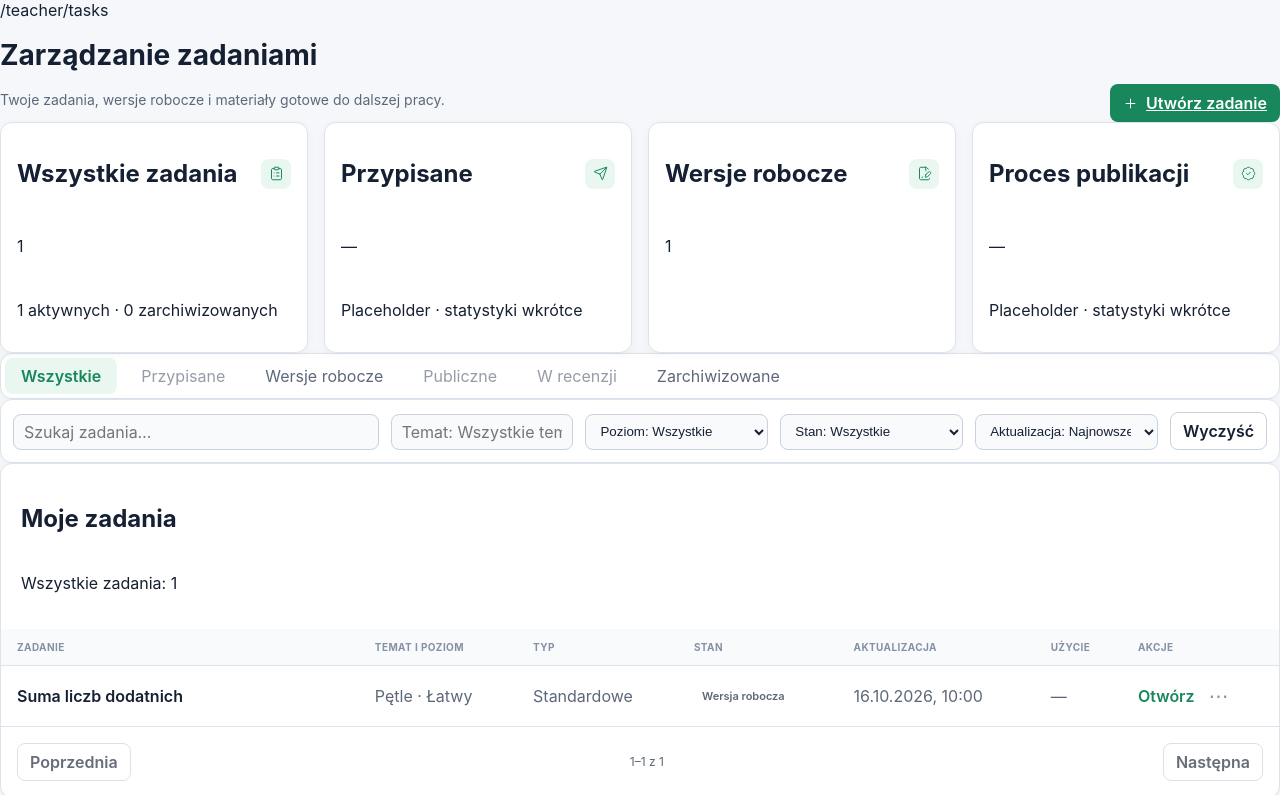
Test case: keeps the draft metric and tab consistent when a draft is archived
The width and height of the screenshot is (1280, 795).
Expected: the table is shown, [1,629,1279,726]
Expected: the 2nd text "1" is shown, [665,236,672,256]
Click the button "Wersje robocze": (324, 376) [249,358,399,394]
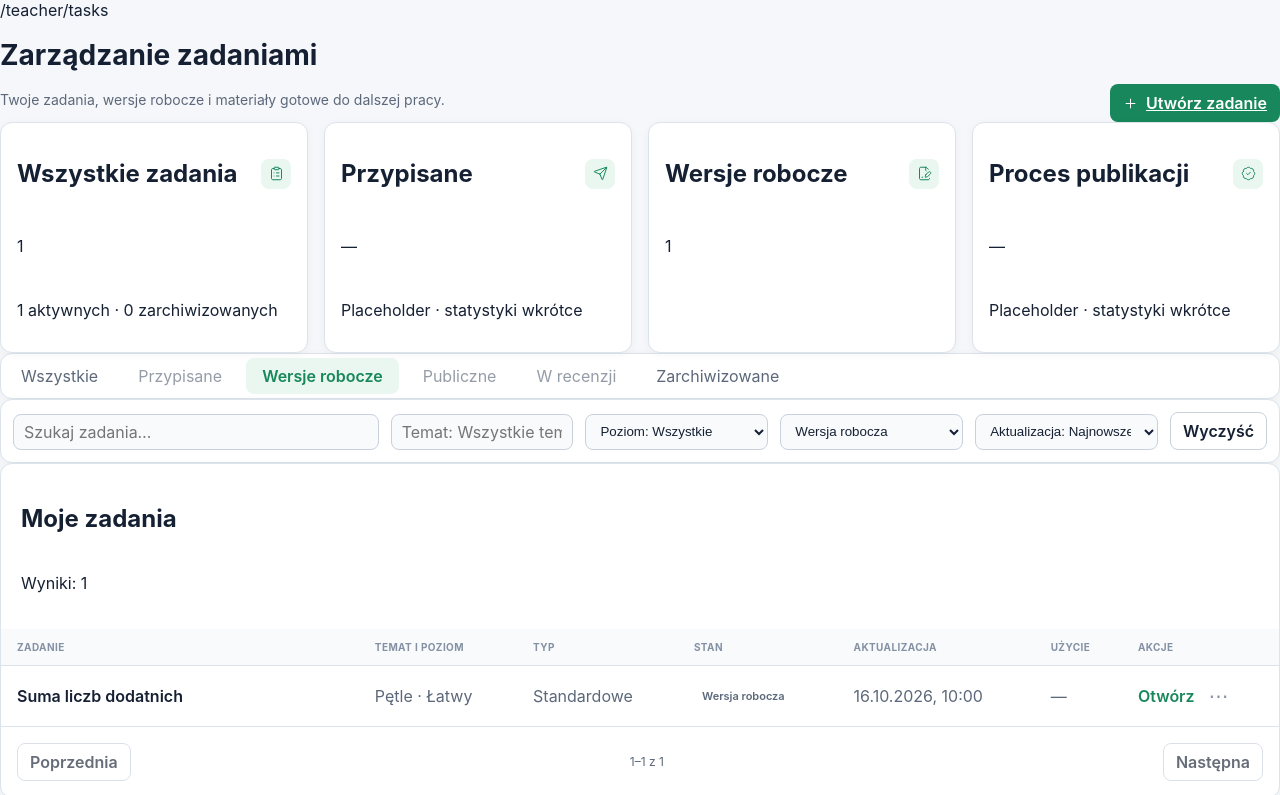
Expected: the table is shown, [1,629,1279,726]
Click the button "⋯": (1218, 696) [1202,680,1234,712]
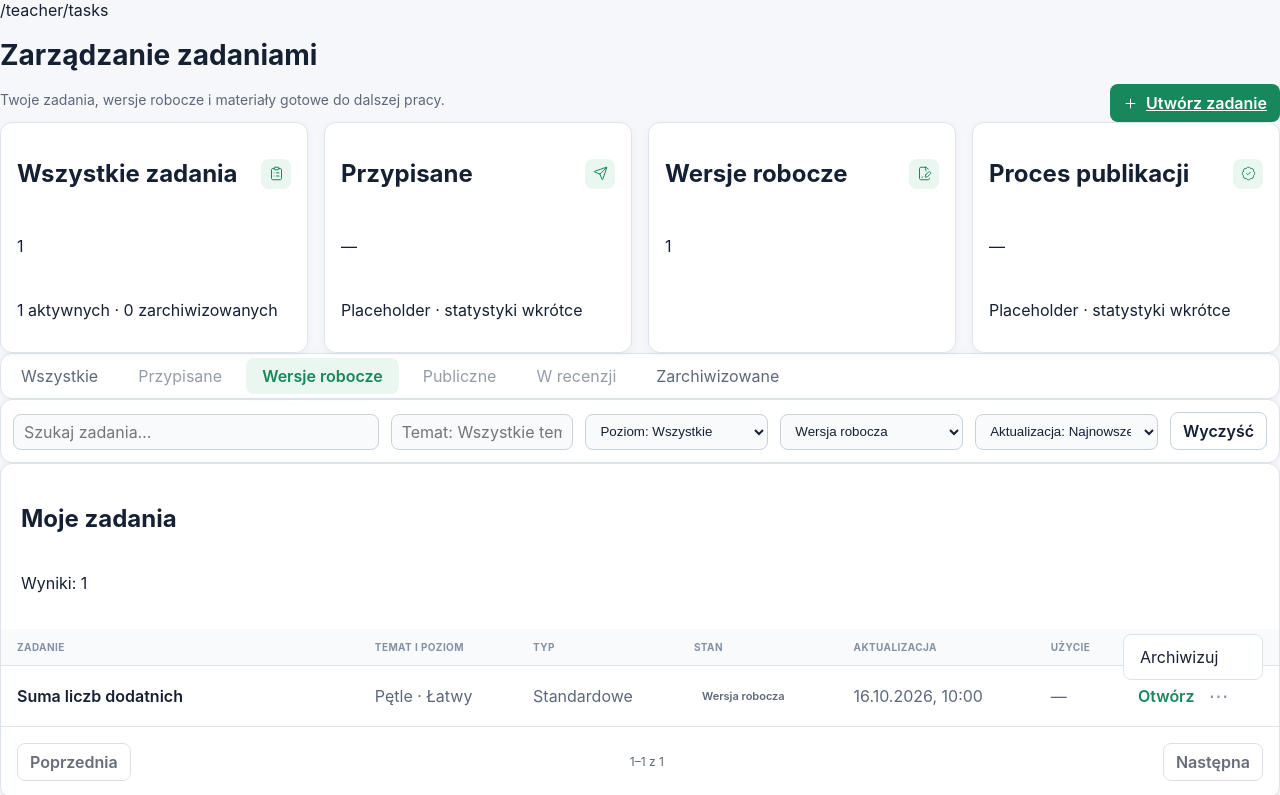
Click the button "Archiwizuj": (1193, 657) [1128,639,1258,675]
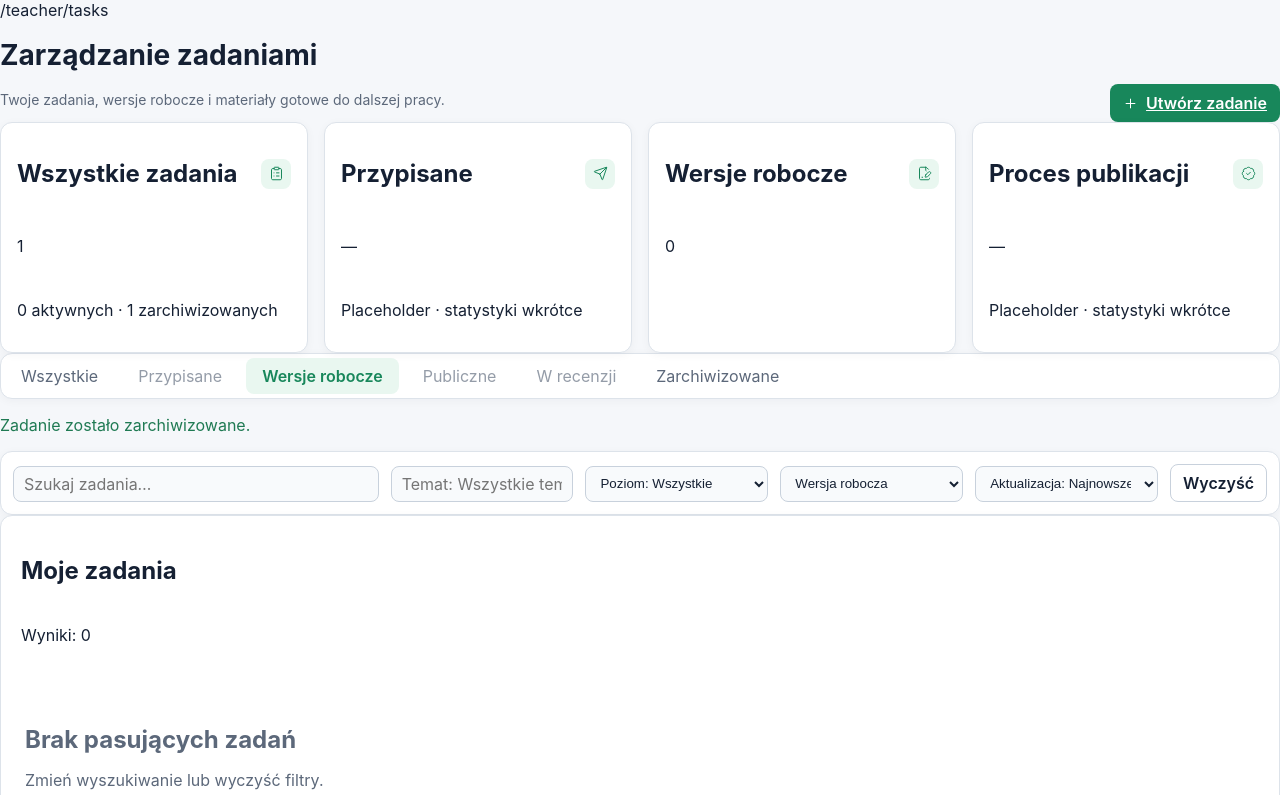
Now the heading "Brak pasujących zadań" is shown, box [25,725,296,754]
Now the text "0" is shown, box [665,236,675,256]
Click the button "Wszystkie": (60, 376) [5,358,114,394]
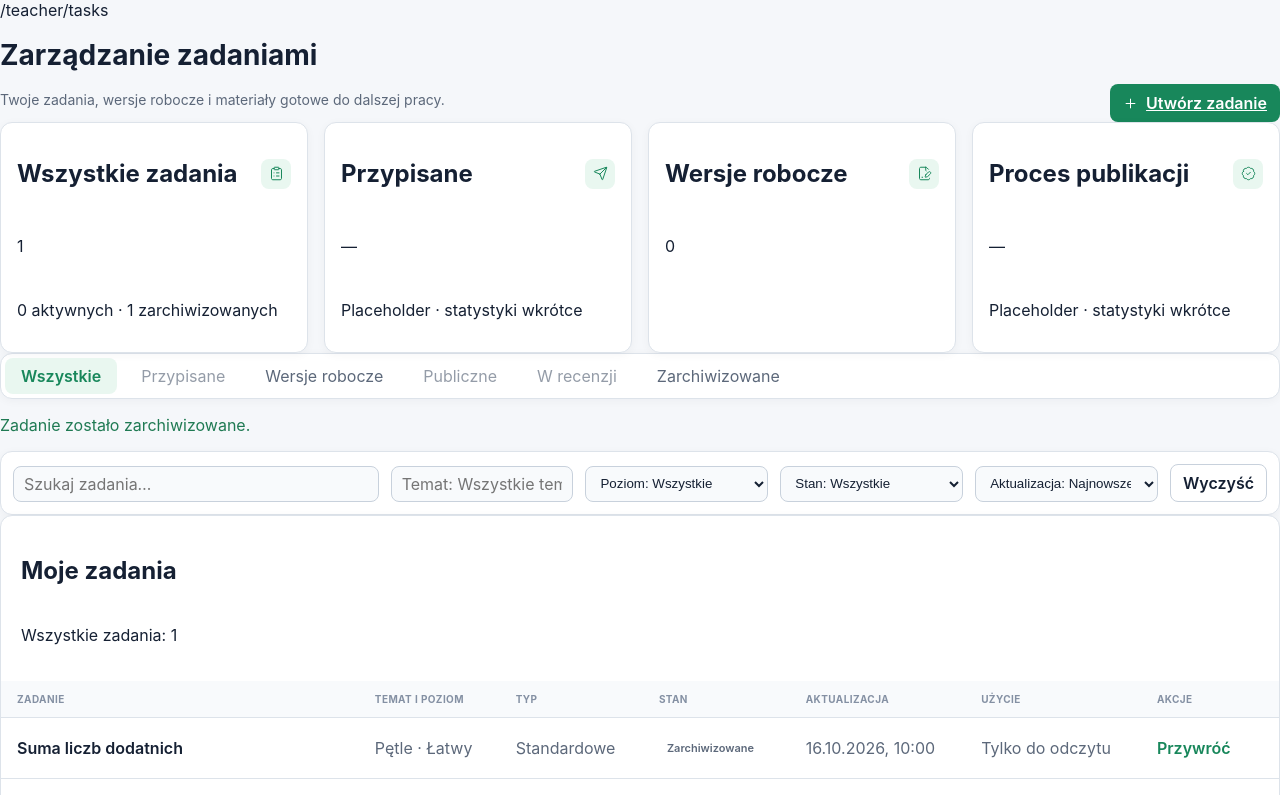
Now the text "0 aktywnych · 1 zarchiwizowanych" is shown, box [17,300,291,320]
Now the table is shown, box [1,681,1279,778]
Now the text "Tylko do odczytu" is shown, box [965,717,1141,778]
